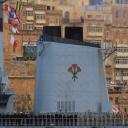Portanaves: (3, 5, 128, 128)
